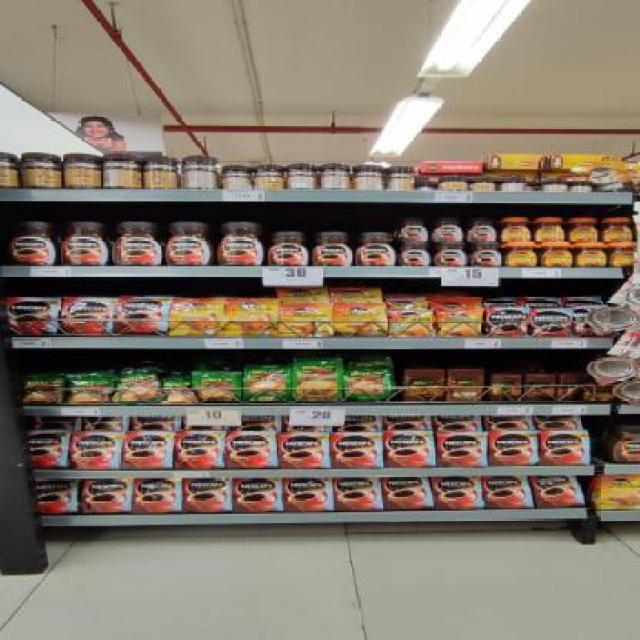Coffee: (110, 222, 164, 266), (8, 221, 58, 267), (213, 221, 264, 265), (59, 222, 109, 266), (164, 221, 211, 265), (228, 298, 280, 336), (169, 298, 222, 334), (276, 433, 329, 469), (3, 298, 55, 334), (61, 298, 110, 334), (116, 298, 166, 333), (72, 433, 119, 470), (330, 434, 381, 468), (227, 432, 275, 468), (122, 432, 170, 468), (282, 477, 332, 511), (175, 432, 222, 468), (541, 429, 590, 463), (385, 431, 432, 466), (278, 305, 329, 337), (22, 432, 67, 468), (436, 433, 486, 465), (83, 479, 131, 512), (134, 478, 180, 512), (233, 478, 280, 511), (433, 477, 481, 509), (266, 232, 311, 266), (332, 305, 383, 335), (184, 478, 230, 511), (490, 432, 535, 465), (334, 478, 380, 510), (482, 477, 529, 508), (34, 481, 78, 514), (535, 476, 583, 506), (311, 231, 352, 266), (600, 474, 640, 509), (384, 478, 430, 508), (356, 232, 396, 266), (438, 311, 480, 337), (486, 309, 526, 336), (388, 310, 429, 336), (532, 309, 570, 336), (398, 240, 431, 266), (432, 215, 465, 240), (434, 242, 468, 266), (398, 216, 431, 240), (467, 243, 502, 265), (466, 216, 496, 240), (604, 218, 634, 242), (578, 242, 608, 266), (506, 243, 536, 265), (542, 242, 569, 266), (570, 217, 598, 240), (536, 217, 564, 240), (612, 243, 637, 266), (504, 218, 530, 240)
